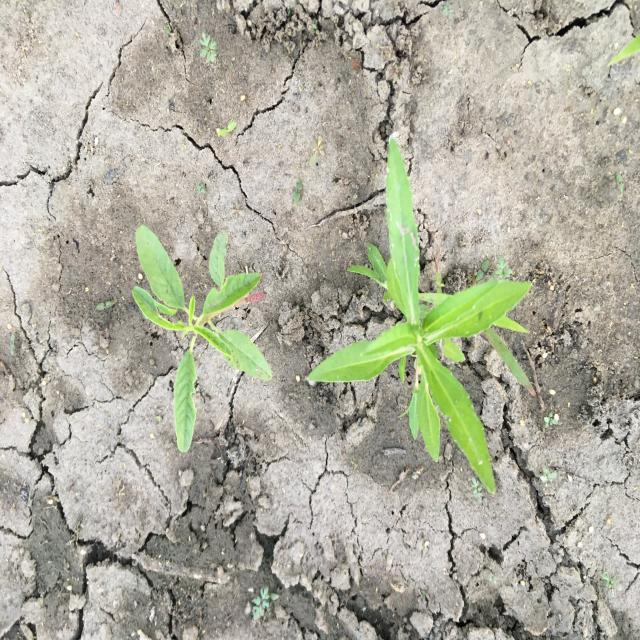Eclipta: (306, 136, 536, 497)
Ragweed: (248, 584, 273, 620), (198, 32, 220, 70)
Waterhemp: (132, 225, 274, 454)
